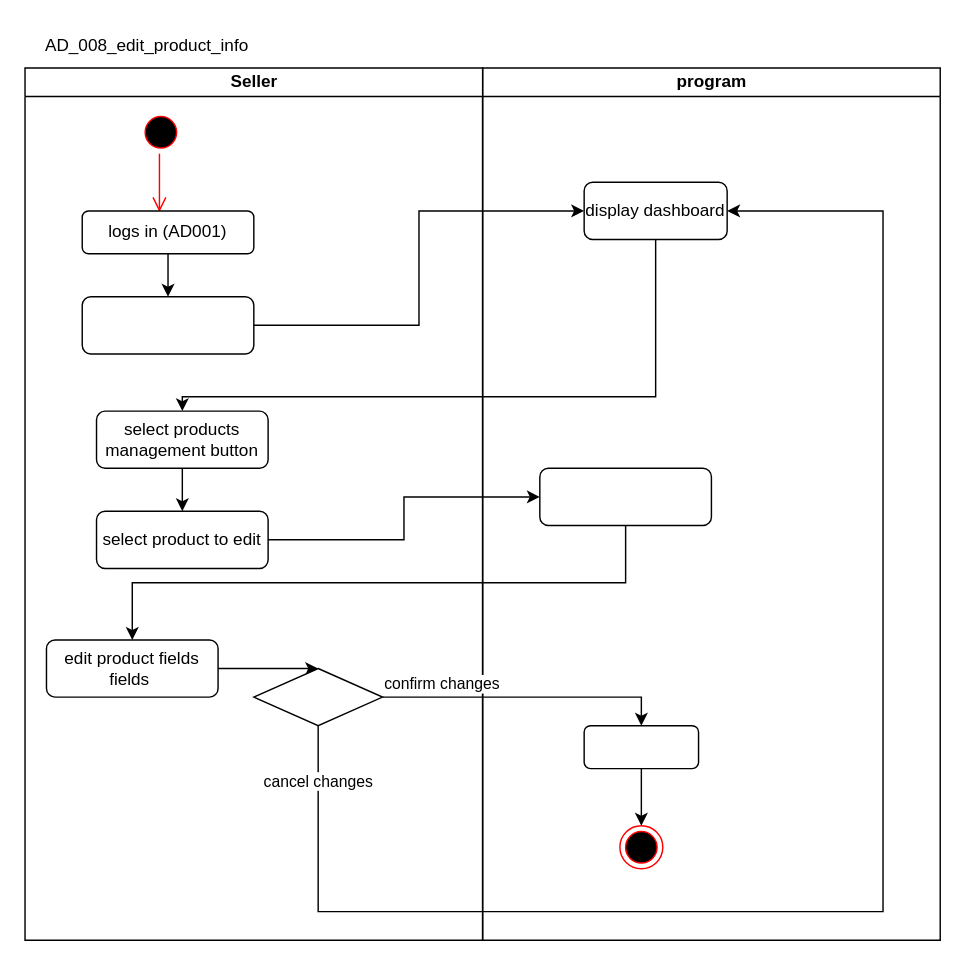
This 965x965 diagram has some shape labels left out. The centre of each missing label's shape, as x and y in pixels:
"display product form" goes at pixel 624 496.
"navigates to admin dashboard" goes at pixel 167 324.
"save new product info" goes at pixel 641 746.
